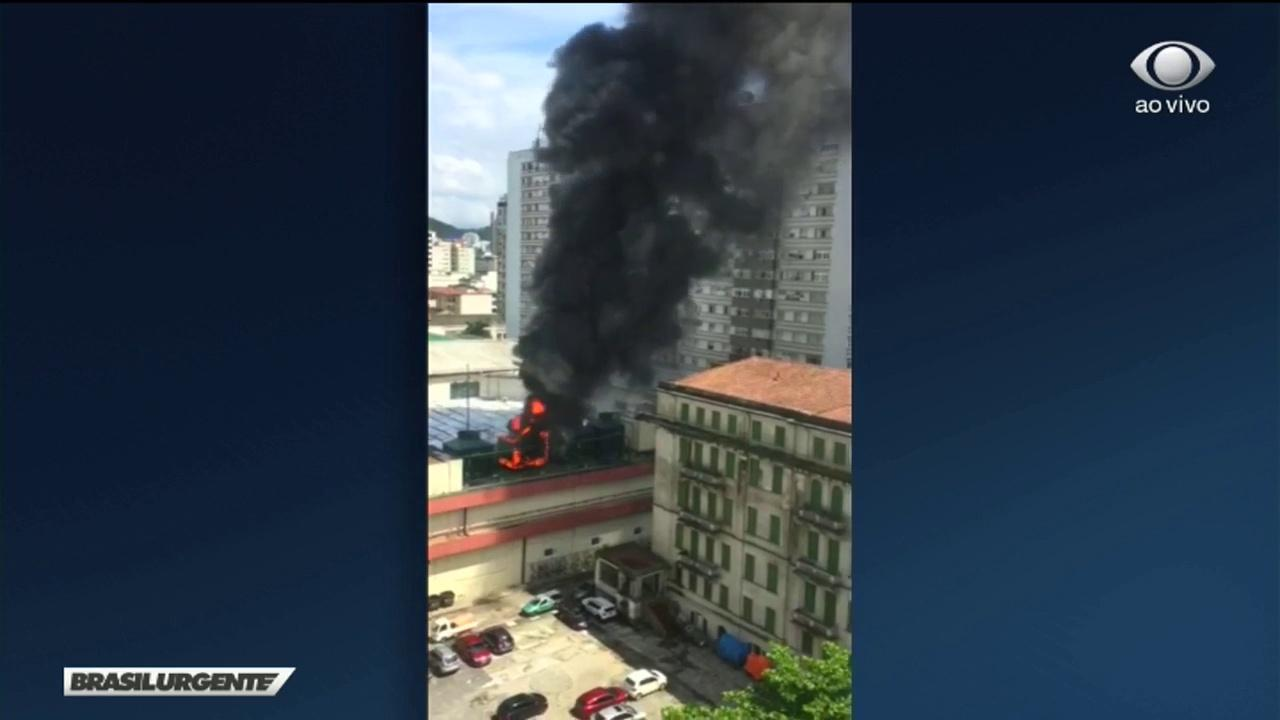fire: (508, 398, 548, 472)
smoke: (560, 34, 758, 272), (536, 284, 648, 378)
